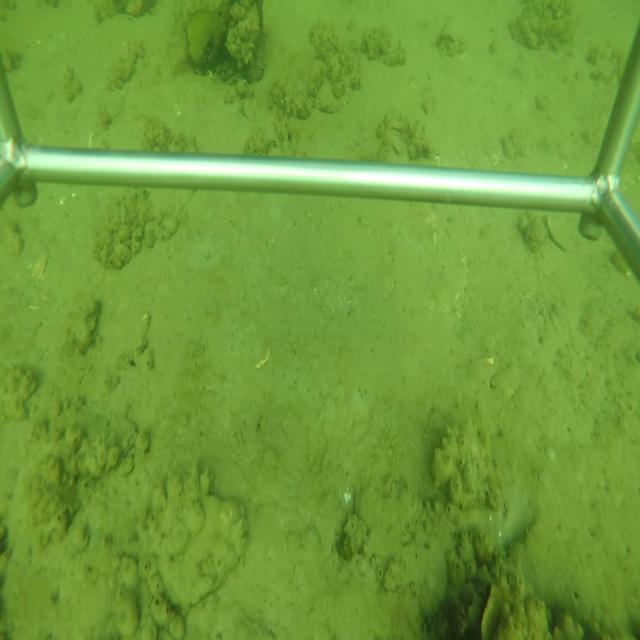Oyster-Indeterminate: (158, 474, 250, 615)
